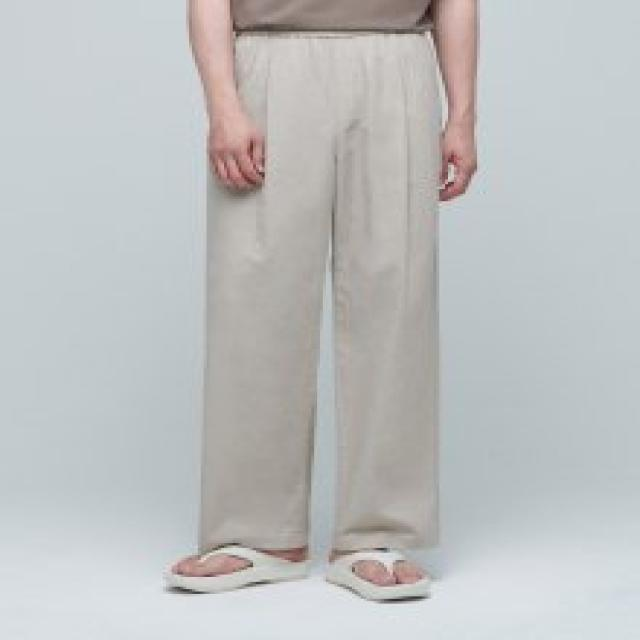long-pants: (197, 30, 445, 558)
